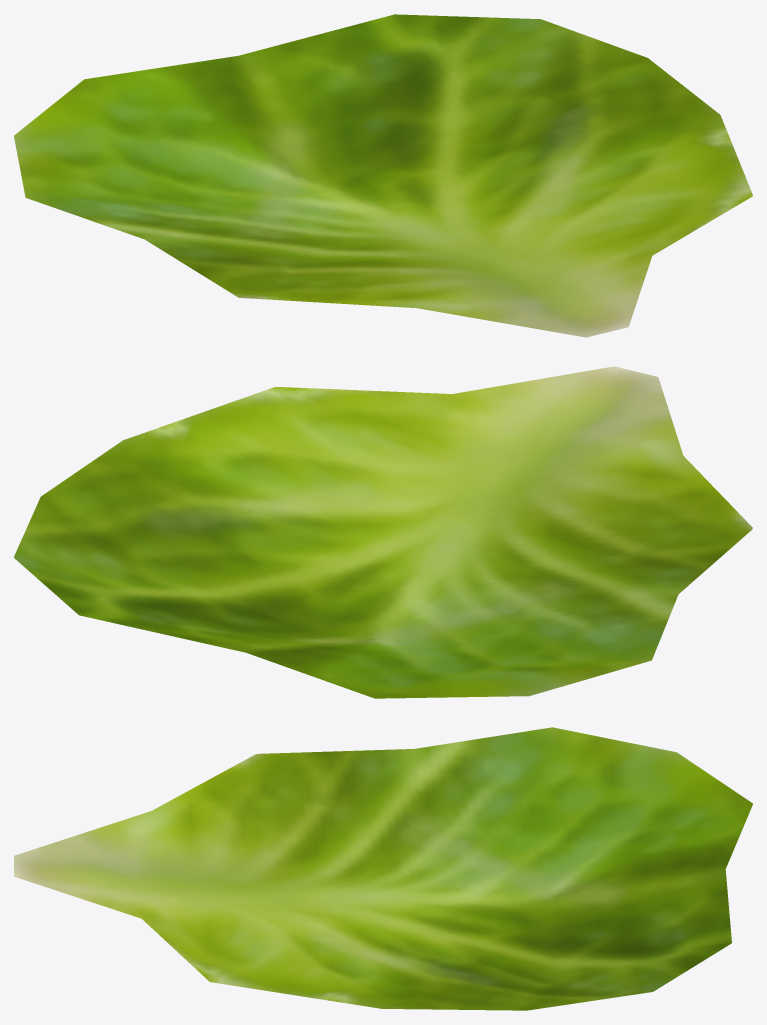
File: Salad.fbx
3 renders of one model, top to bottom at view 1: azimuth 30°, elevation 25°; view 2: azimuth 150°, elevation 25°; view 3: azimuth 270°, elevation 25°, orthographic. The views are drawn at different scales.
Parts seen in each view (by area): view 1: Salad; view 2: Salad; view 3: Salad.
Part boxes in pixels (x1,y1,x2,y2): Salad: (14,14,752,337); Salad: (14,366,752,698); Salad: (14,727,752,1010).
Size of the model in its own units: 14.45 by 15.99 by 1.2.
